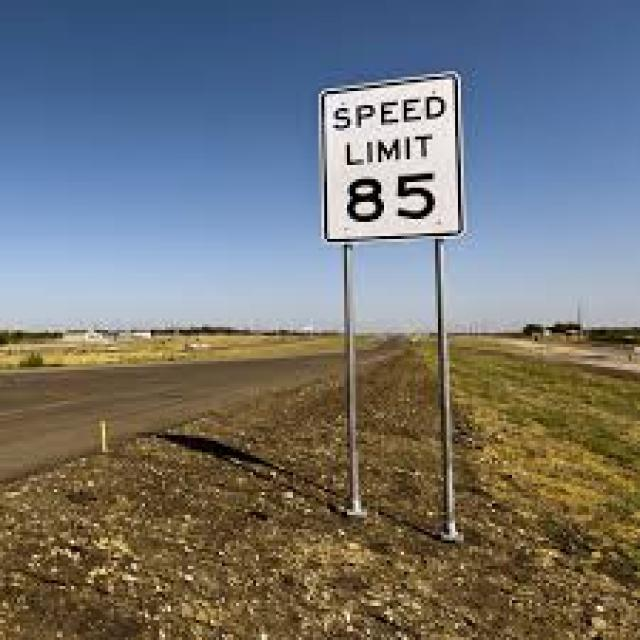speedLimit85: (319, 80, 458, 236)
